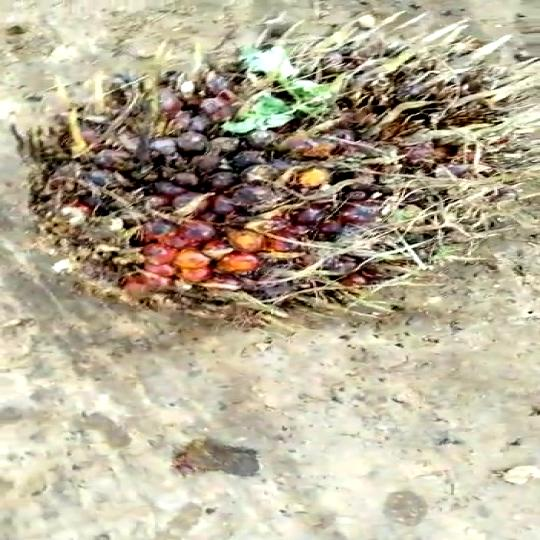masak: (7, 29, 540, 339)
